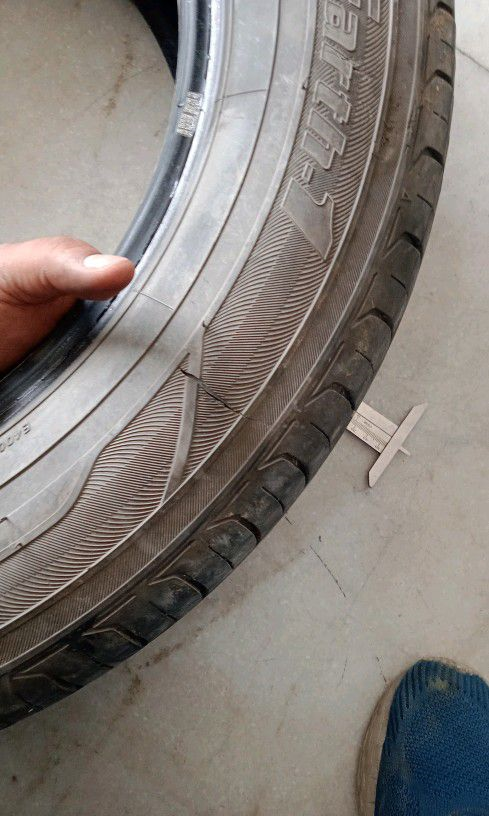cut: (178, 368, 258, 422)
